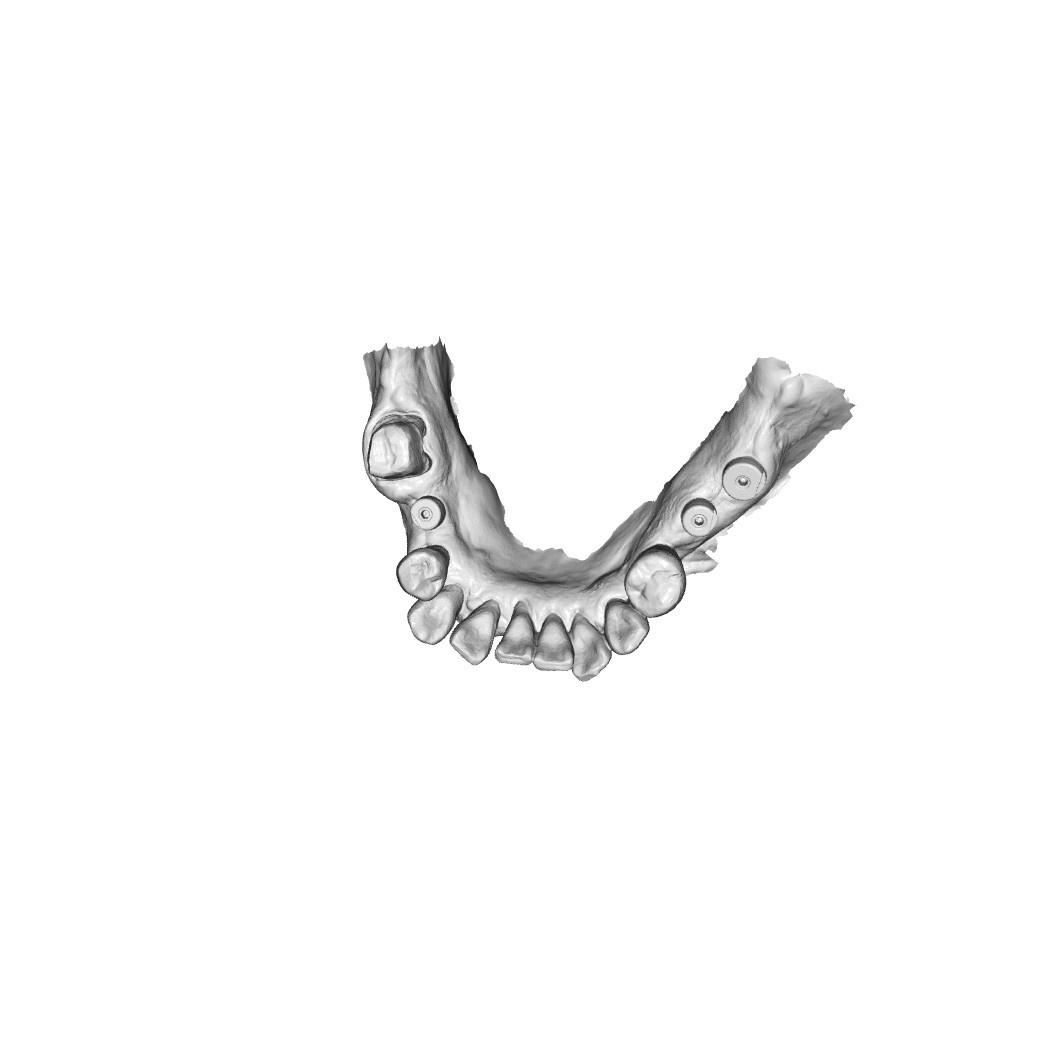canine: (404, 590, 464, 650), (602, 599, 648, 655)
crown: (365, 412, 437, 484)
implant: (723, 459, 767, 502), (680, 498, 720, 539), (411, 493, 445, 534)
incisor: (530, 616, 578, 674), (450, 610, 498, 667), (572, 619, 613, 682), (492, 610, 534, 671)
premolar: (627, 542, 686, 620), (394, 550, 442, 602)
